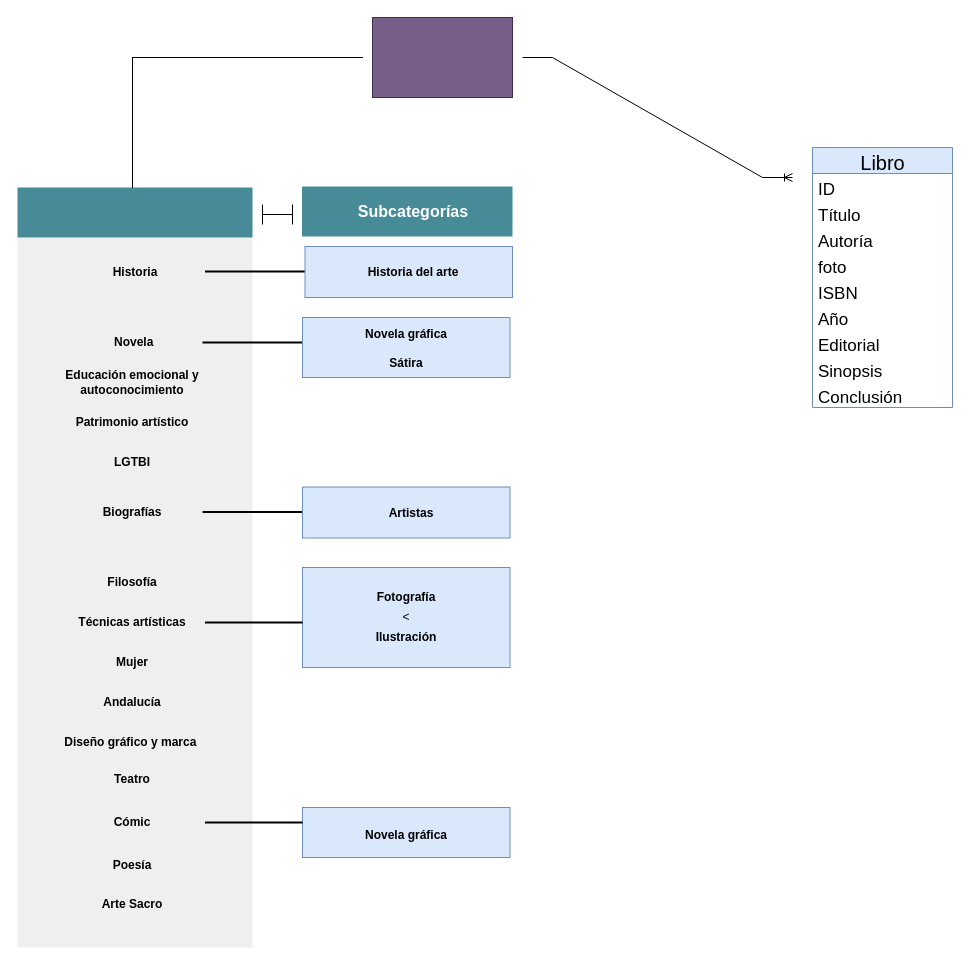
The diagram is 970 pixels wide and 965 high, and some of its shapes have lost their labels. The shapes that lost their labels are listed below. From the top down, each one's centre as x and y in pixels, then its label:
At point (442, 57): "Prusia Biblioteca".
At point (134, 212): "Categorías".
